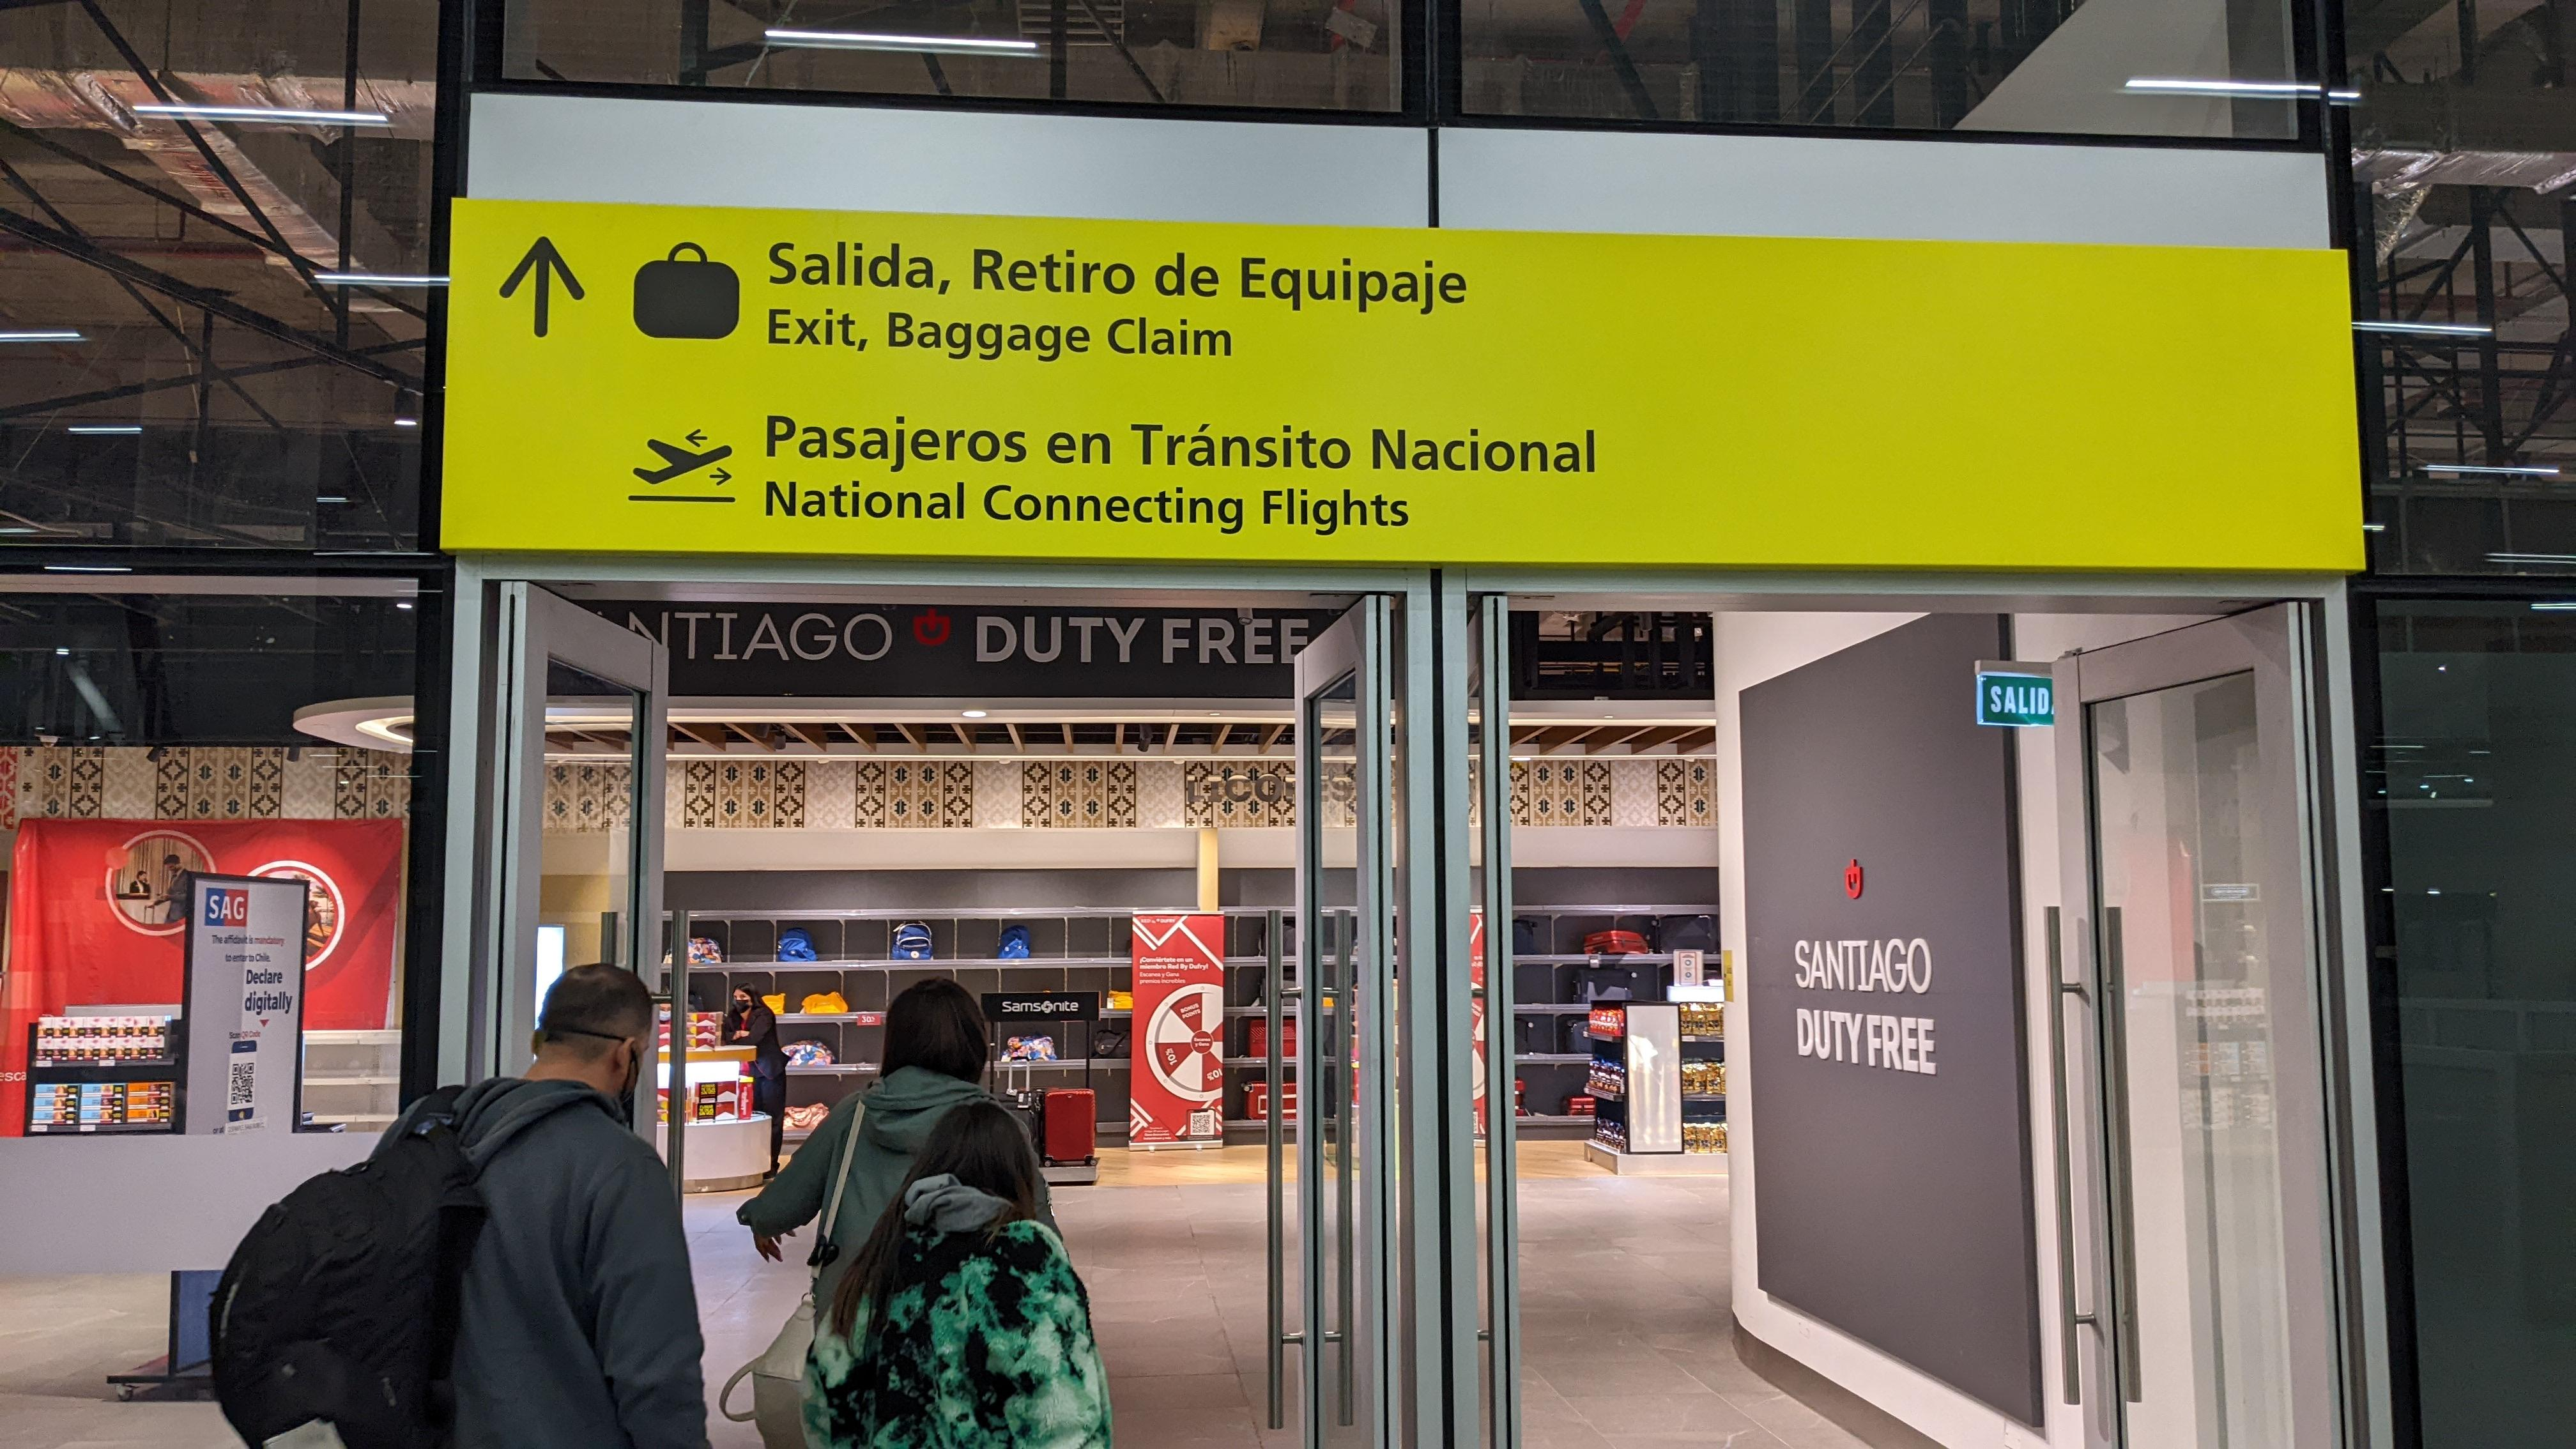airplane symbol: (630, 430, 736, 492)
baggage claim: (630, 237, 743, 345)
thin up arrow: (497, 232, 589, 343)
